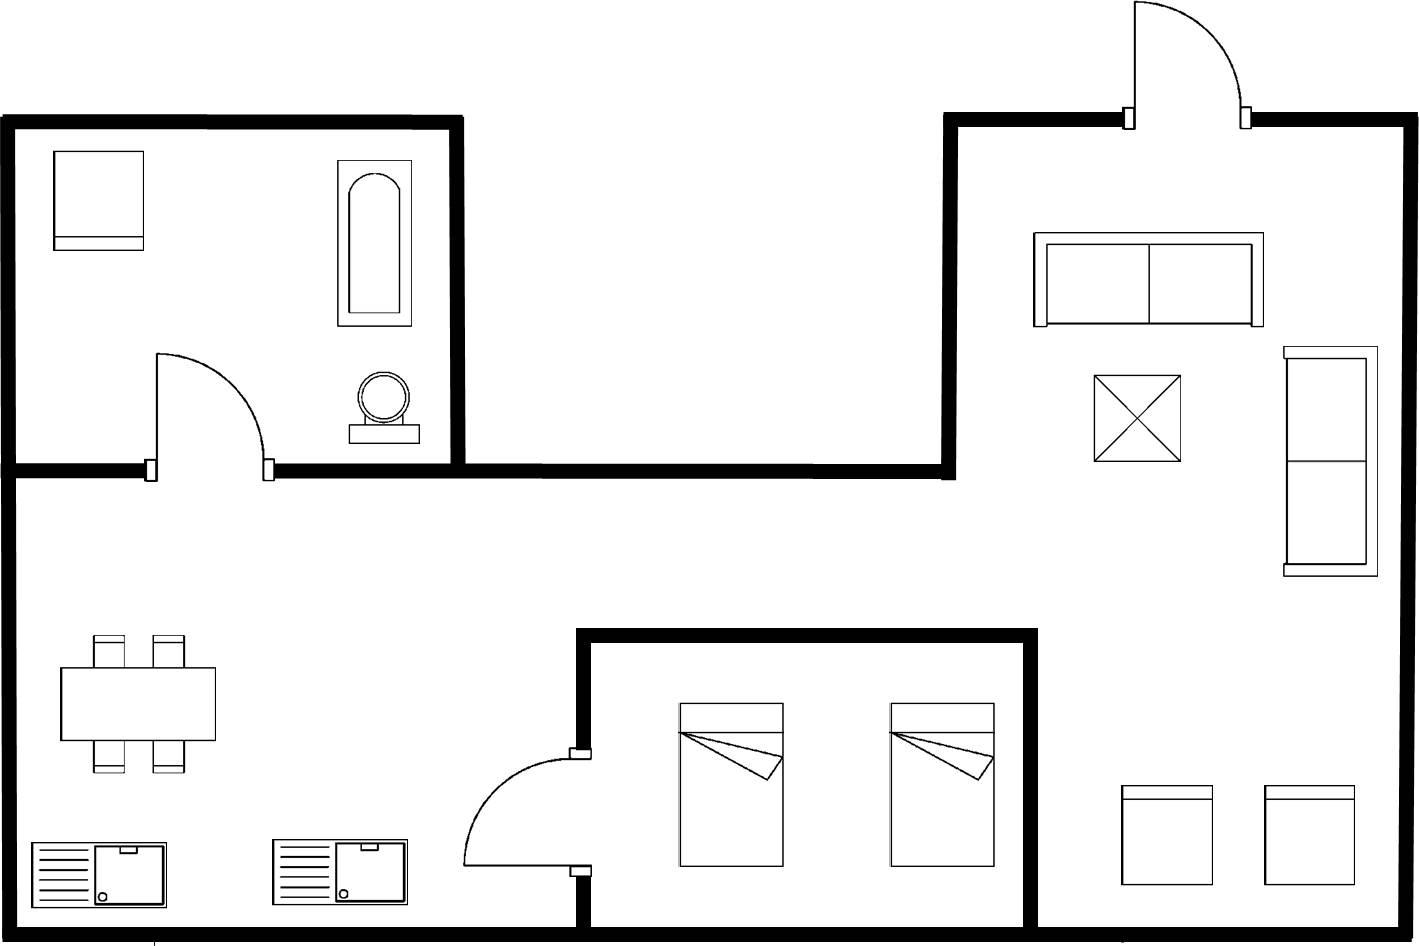bed: (881, 694, 1000, 873), (671, 694, 790, 871)
dining_table: (53, 626, 222, 779)
sink: (23, 831, 174, 915), (265, 833, 413, 911)
sofa: (1025, 223, 1270, 335), (1278, 339, 1384, 583)
toilet: (343, 363, 425, 451)
tub: (328, 153, 418, 332)
